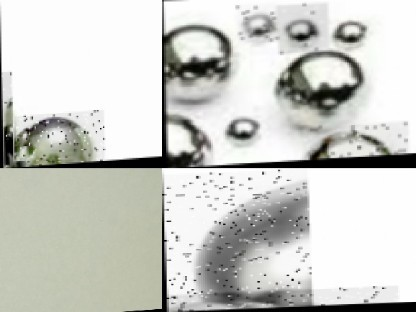ironball: (162, 170, 311, 311), (270, 46, 384, 139), (162, 19, 245, 104), (165, 287, 397, 311), (12, 111, 104, 167), (301, 123, 407, 161), (164, 115, 224, 168), (211, 110, 267, 161), (276, 3, 327, 54), (322, 10, 370, 60), (235, 2, 278, 44), (1, 71, 12, 165), (2, 161, 24, 168)
